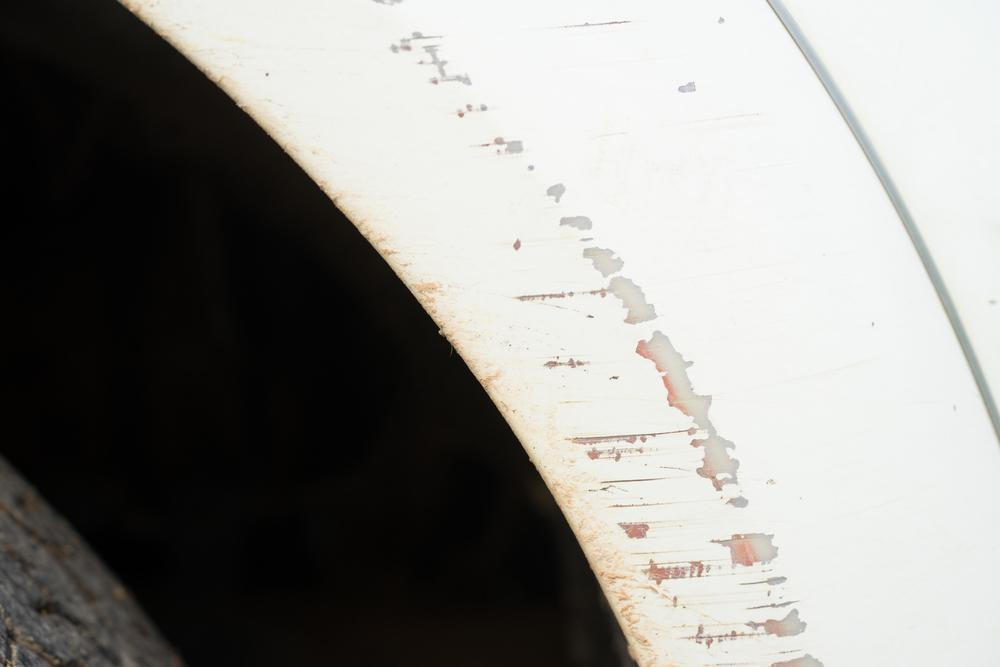scratch: (299, 0, 828, 667)
